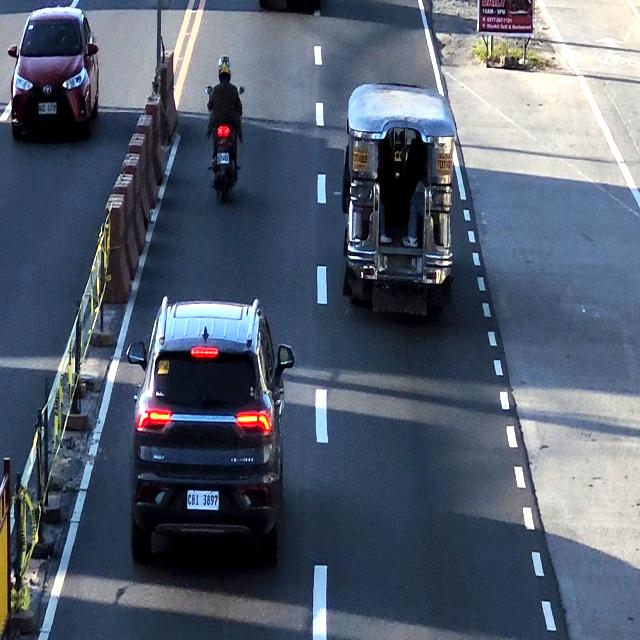Car: (132, 305, 285, 560)
Jeep: (340, 84, 452, 304)
License-Plate: (186, 488, 219, 514), (215, 152, 230, 164)
Motorcycle: (209, 49, 244, 196)
